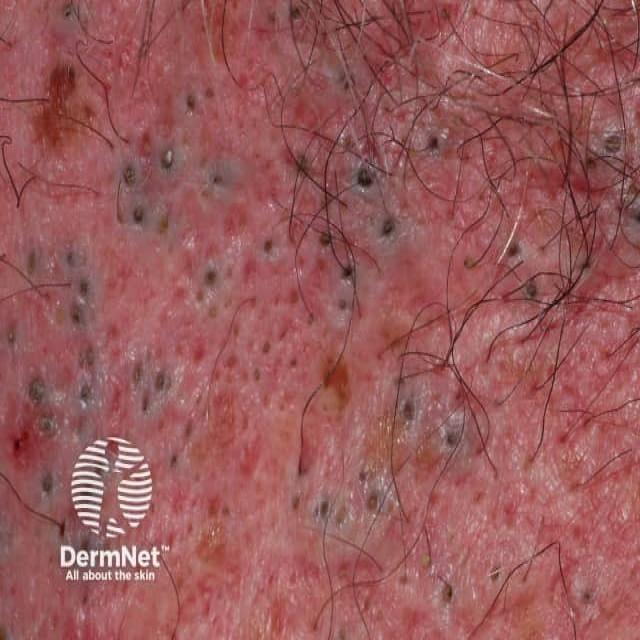blackhead: (59, 545, 76, 575), (356, 167, 374, 191), (29, 376, 45, 402), (339, 70, 357, 92), (40, 469, 54, 496), (400, 398, 414, 425), (65, 247, 81, 270), (605, 132, 620, 156), (77, 385, 92, 408), (26, 250, 38, 276), (85, 342, 98, 366), (79, 536, 95, 555), (162, 146, 174, 171), (523, 279, 538, 299), (380, 216, 393, 239), (70, 304, 83, 326), (262, 235, 276, 255), (206, 266, 220, 286), (77, 277, 90, 298), (366, 491, 379, 512), (446, 426, 459, 447), (60, 5, 76, 22), (441, 581, 456, 599), (86, 107, 98, 129), (336, 508, 346, 534), (184, 92, 196, 113), (122, 164, 134, 185), (295, 154, 309, 172), (336, 622, 350, 640), (631, 202, 640, 229), (438, 7, 452, 24), (318, 230, 331, 248), (462, 254, 475, 272), (133, 204, 143, 227), (5, 326, 18, 343), (39, 415, 52, 432), (312, 501, 322, 523), (139, 397, 151, 415), (289, 6, 303, 21), (428, 136, 442, 151), (341, 263, 354, 279), (506, 240, 519, 256), (581, 258, 594, 274), (288, 354, 298, 374), (490, 564, 500, 584), (95, 539, 105, 559), (132, 363, 141, 385), (319, 500, 330, 518), (204, 86, 217, 101), (156, 372, 165, 392), (338, 562, 348, 580), (209, 302, 220, 318), (221, 502, 232, 518), (183, 422, 194, 438), (356, 469, 367, 484), (195, 288, 205, 304), (252, 366, 260, 386), (232, 322, 242, 338), (291, 493, 299, 513), (146, 500, 156, 516), (212, 170, 220, 189), (338, 299, 348, 314), (582, 590, 591, 606), (422, 555, 431, 571), (58, 520, 66, 538), (627, 132, 636, 147), (307, 309, 314, 328), (12, 436, 22, 449), (79, 592, 87, 608), (262, 339, 270, 355), (586, 156, 595, 170), (267, 10, 277, 22), (168, 452, 176, 467), (375, 608, 383, 623), (78, 350, 85, 367), (192, 470, 199, 487), (0, 247, 7, 263), (292, 292, 300, 302)
